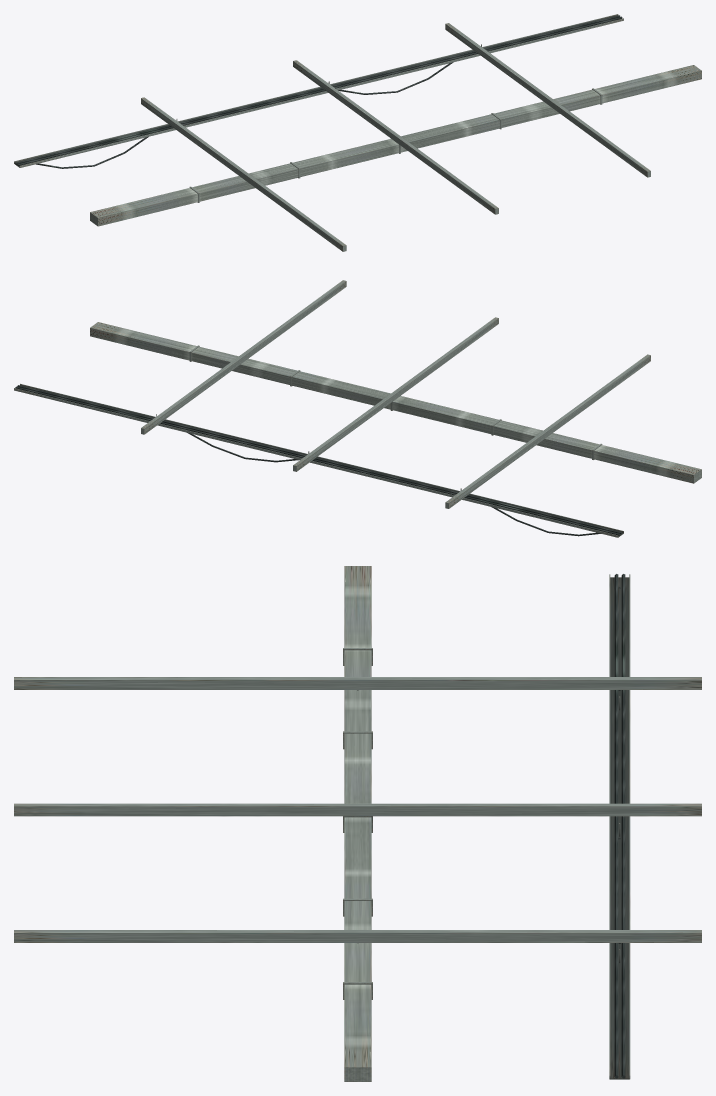
The model's file is ceiling_loading_dock.glb.
The picture shows the model from 3 angles, top to bottom: view 1: azimuth 30°, elevation 25°; view 2: azimuth 150°, elevation 25°; view 3: azimuth 270°, elevation 25°; orthographic projection. The views are drawn at different scales.
Visible parts, largest first — view 1: Ceiling; view 2: Ceiling; view 3: Ceiling.
Part boxes in pixels (x1,y1,x2,y2): Ceiling: [14, 14, 701, 251]; Ceiling: [14, 280, 701, 537]; Ceiling: [14, 566, 701, 1081].
Bounding box in the file's own units: 23.8 × 1.18 × 13.8.
Materials: 1 (1 with a texture image).
